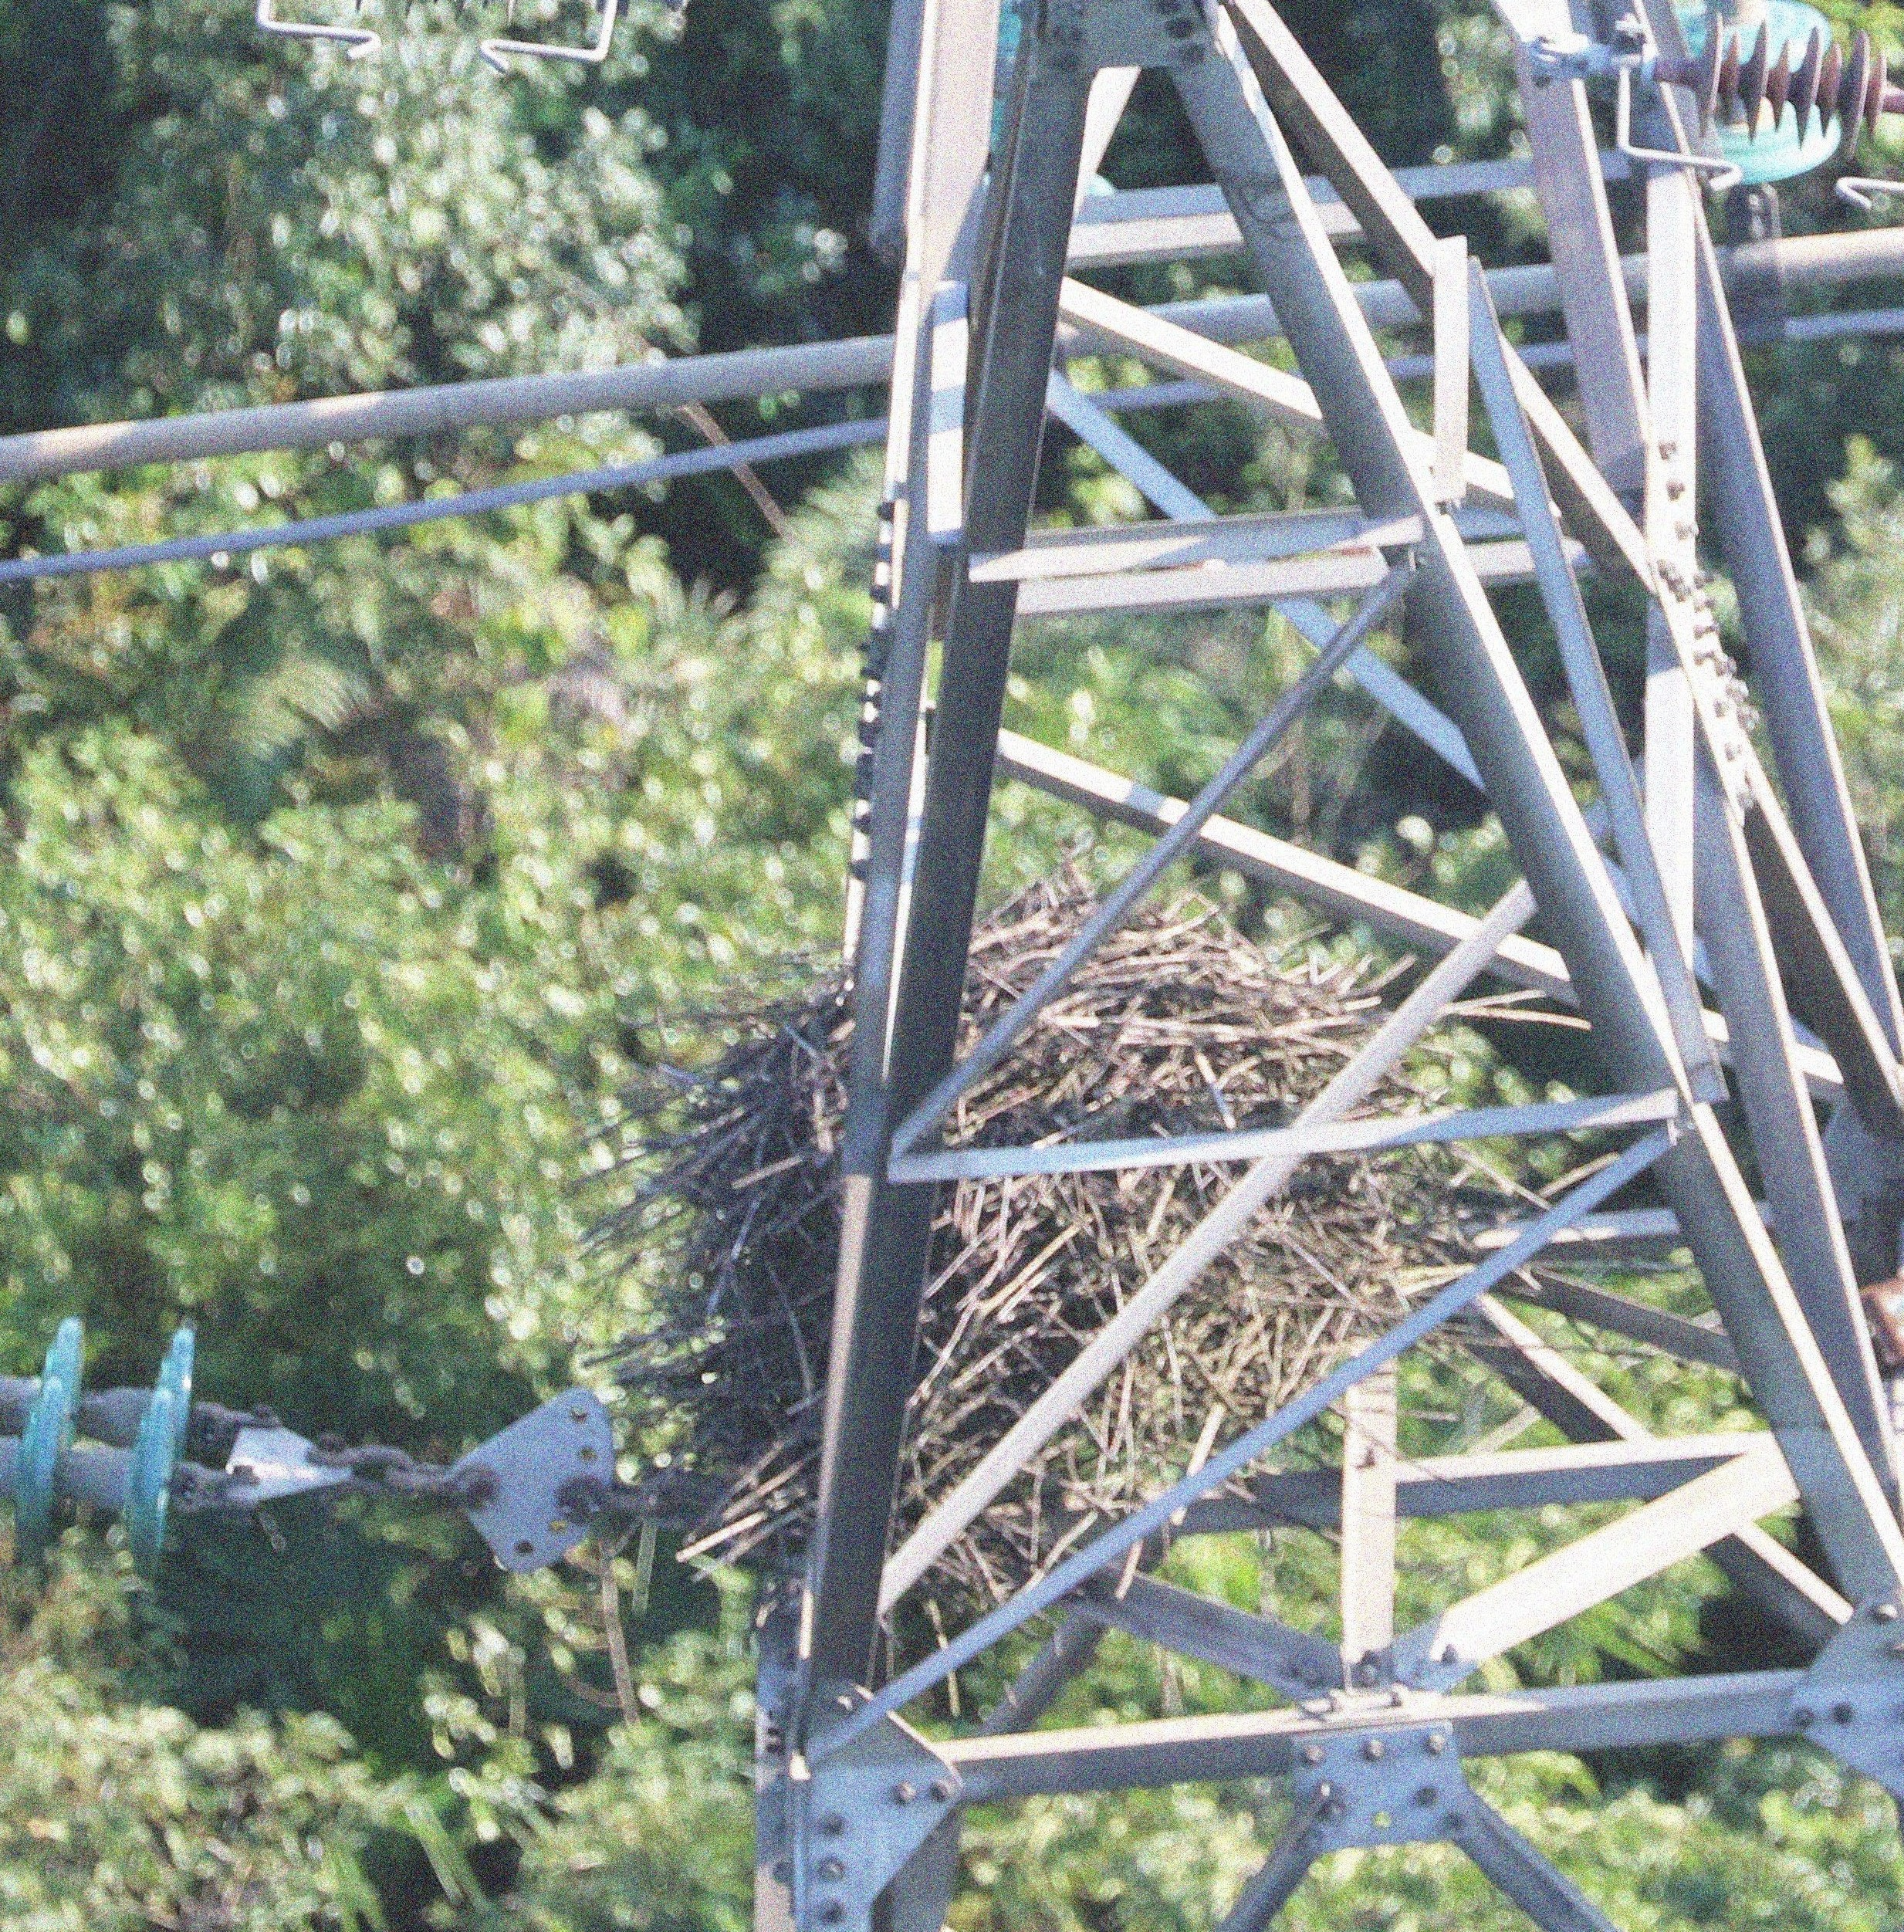niaowo: (581, 827, 1414, 1545)
